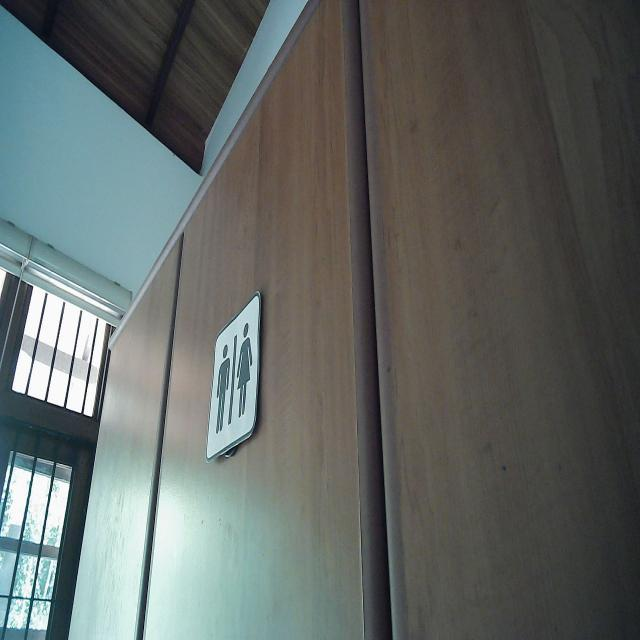restroom: (204, 288, 264, 464)
